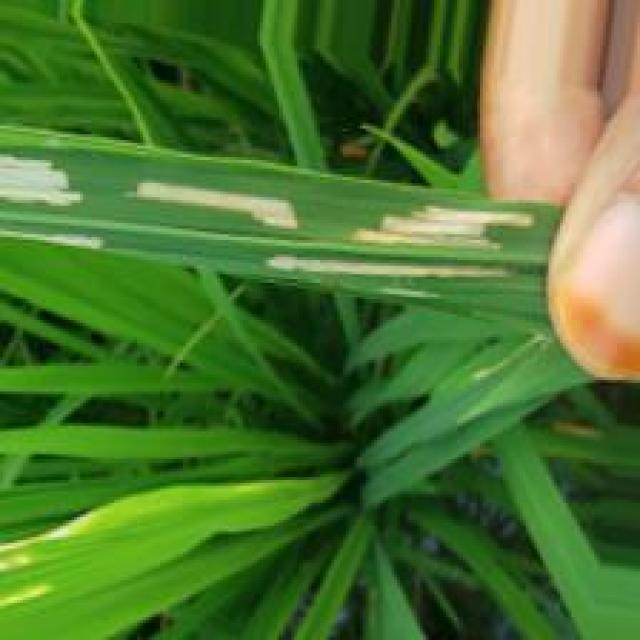Rice_Hispa: (126, 180, 303, 227), (350, 200, 533, 244), (262, 252, 500, 280), (0, 150, 75, 202), (0, 229, 106, 247)
